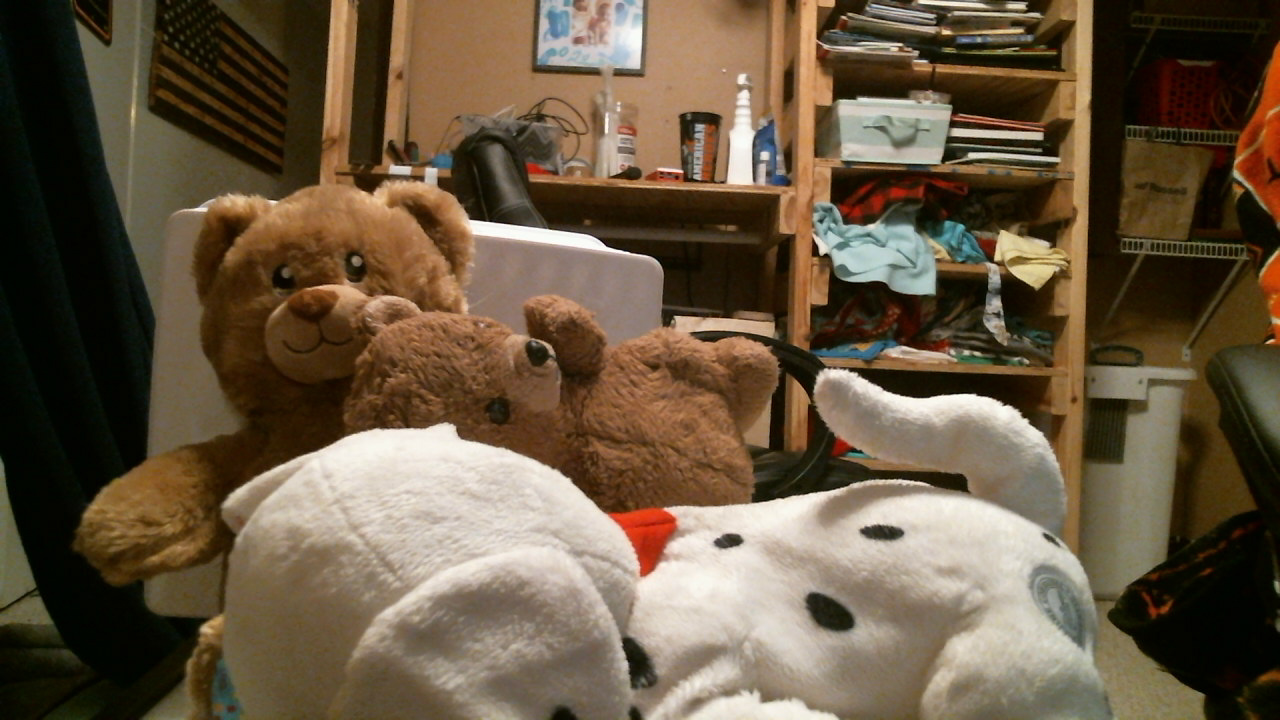Little_Mister_Bear: (466, 326, 567, 440)
